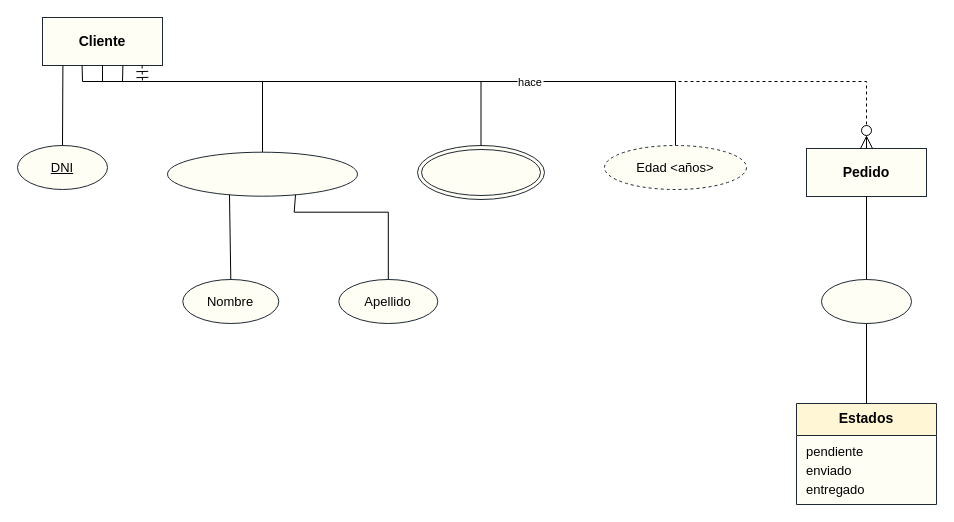
Some shapes in this 954 by 522 pixel diagram are drawn without their labels. Here are the shapes that lost their labels. From the top down, the box of each, then its label:
(166, 151, 358, 196): Nombre completo
(416, 144, 544, 200): Teléfonos
(820, 278, 912, 324): Estado
